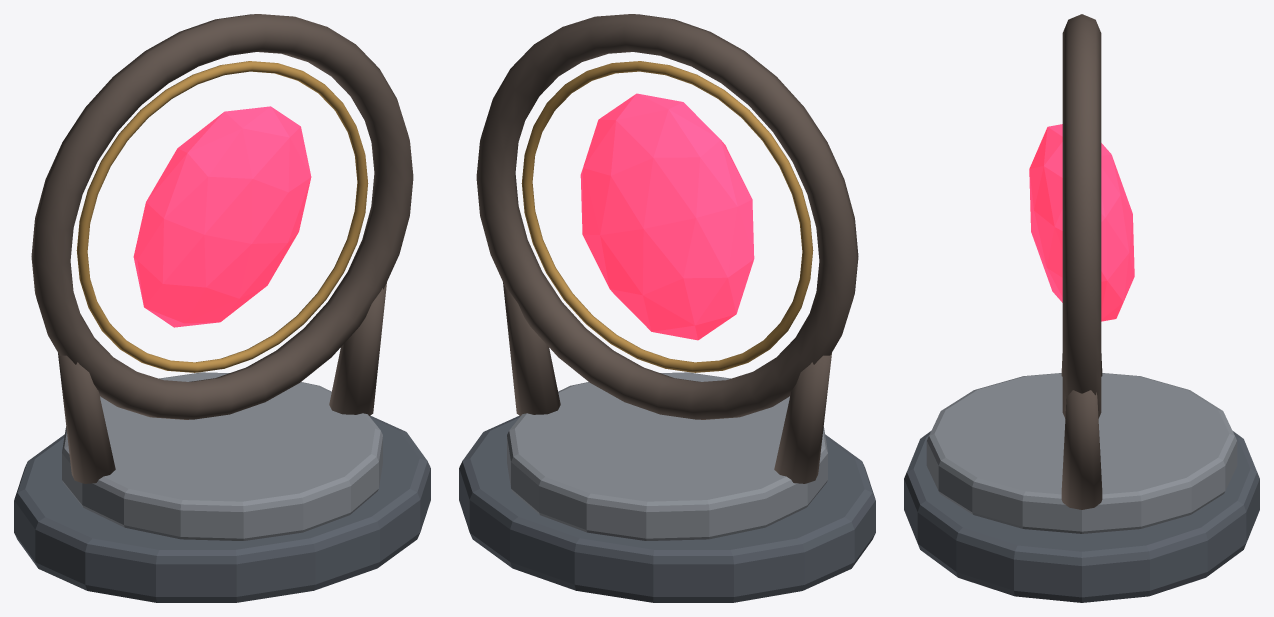
Rendered from Artificial_MagicStone_Ring.fbx.
3 renders of one model, left to right at view 1: azimuth 30°, elevation 25°; view 2: azimuth 150°, elevation 25°; view 3: azimuth 270°, elevation 25°, orthographic. The views are drawn at different scales.
Parts seen in each view (by area): view 1: Frame_Ring, Pedestal_Upper.001, Pedestal_Lower.001, Core.001, Frame_Inlay, Frame_Support_Left, Frame_Support_Right; view 2: Frame_Ring, Pedestal_Upper.001, Core.001, Pedestal_Lower.001, Frame_Inlay, Frame_Support_Left, Frame_Support_Right; view 3: Pedestal_Upper.001, Pedestal_Lower.001, Frame_Ring, Core.001, Frame_Support_Right.
Boxes of the visible parts, x1,y1,x2,y2 form: Frame_Ring: (31,14,413,419); Pedestal_Upper.001: (62,372,382,540); Pedestal_Lower.001: (14,415,430,602); Core.001: (133,106,311,327); Frame_Inlay: (76,61,368,372); Frame_Support_Left: (58,353,115,483); Frame_Support_Right: (329,282,386,415); Frame_Ring: (476,14,858,419); Pedestal_Upper.001: (507,372,827,540); Core.001: (580,93,754,340); Pedestal_Lower.001: (459,415,875,602); Frame_Inlay: (521,61,813,372); Frame_Support_Left: (774,353,831,483); Frame_Support_Right: (503,282,560,415); Pedestal_Upper.001: (926,373,1237,533); Pedestal_Lower.001: (904,431,1259,602); Frame_Ring: (1062,14,1101,418); Core.001: (1029,124,1134,321); Frame_Support_Right: (1061,390,1102,509).
Bounding box in the file's own units: 1.94 × 2.49 × 1.65.
